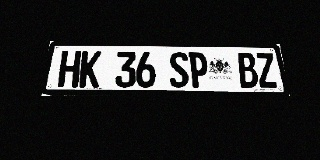3: (115, 51, 136, 88)
6: (136, 52, 156, 88)
B: (236, 53, 259, 88)
H: (57, 51, 82, 88)
K: (78, 51, 102, 88)
P: (188, 52, 209, 88)
S: (169, 52, 189, 88)
Z: (255, 53, 279, 88)
